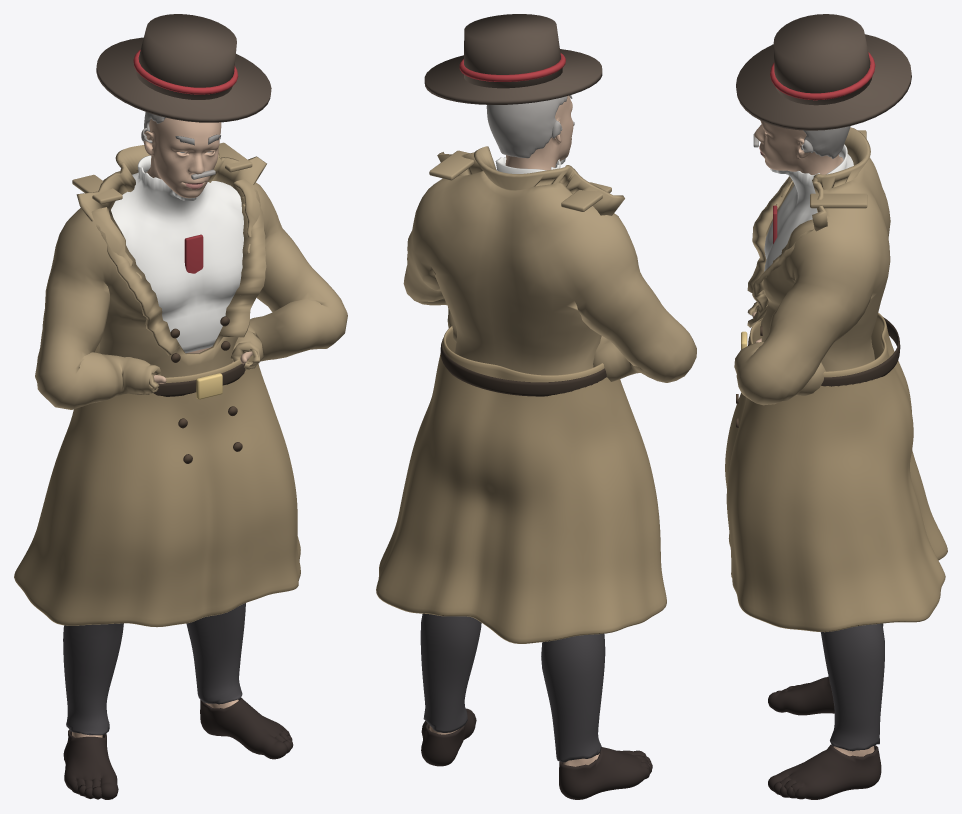
Rendered from juror_skeptic.glb.
3 views of the same model, side by side, from view 1: azimuth 30°, elevation 25°; view 2: azimuth 150°, elevation 25°; view 3: azimuth 270°, elevation 25° (orthographic).
Parts seen in each view (by area): view 1: CoatLower, Coat, Shirt, Trousers, HatCrown.001, HatBrim.001, Shoes, Body, HatBand.001, Belt, Epaulette, Tie; view 2: CoatLower, Coat, Trousers, HatCrown.001, Shoes, HatBrim.001, Scalp, Belt, Body, HatBand.001, Epaulette.001, Epaulette; view 3: CoatLower, Coat, HatBrim.001, HatCrown.001, Trousers, Shoes, Body, Shirt, Belt, Scalp, HatBand.001, Epaulette.001.
Part boxes in pixels (x1,y1,x2,y2): CoatLower: (14, 344, 300, 627); Coat: (35, 145, 347, 409); Shirt: (111, 155, 243, 353); Trousers: (63, 603, 245, 735); HatCrown.001: (135, 14, 236, 99); HatBrim.001: (96, 37, 271, 122); Shoes: (63, 697, 293, 799); Body: (72, 118, 252, 737); HatBand.001: (133, 49, 238, 94); Belt: (153, 363, 245, 396); Epaulette: (72, 174, 122, 204); Tie: (184, 234, 203, 273); CoatLower: (376, 326, 666, 643); Coat: (403, 146, 696, 382); Trousers: (420, 613, 605, 762); HatCrown.001: (464, 14, 562, 88); Shoes: (421, 708, 652, 799); HatBrim.001: (424, 49, 602, 104); Scalp: (486, 96, 567, 158); Belt: (440, 338, 606, 396); Body: (429, 95, 599, 766); HatBand.001: (459, 53, 565, 81); Epaulette.001: (429, 150, 473, 180); Epaulette: (561, 182, 611, 211); CoatLower: (725, 313, 947, 632); Coat: (734, 127, 890, 405); HatBrim.001: (736, 34, 911, 130); HatCrown.001: (773, 14, 872, 105); Trousers: (820, 623, 884, 751); Shoes: (768, 676, 881, 799); Body: (752, 120, 874, 756); Shirt: (764, 144, 853, 271); Belt: (748, 317, 900, 386); Scalp: (801, 126, 850, 158); HatBand.001: (770, 52, 875, 100); Epaulette.001: (810, 193, 867, 208).
Size of the model in its own units: 0.7594 by 1.83 by 0.5055.
